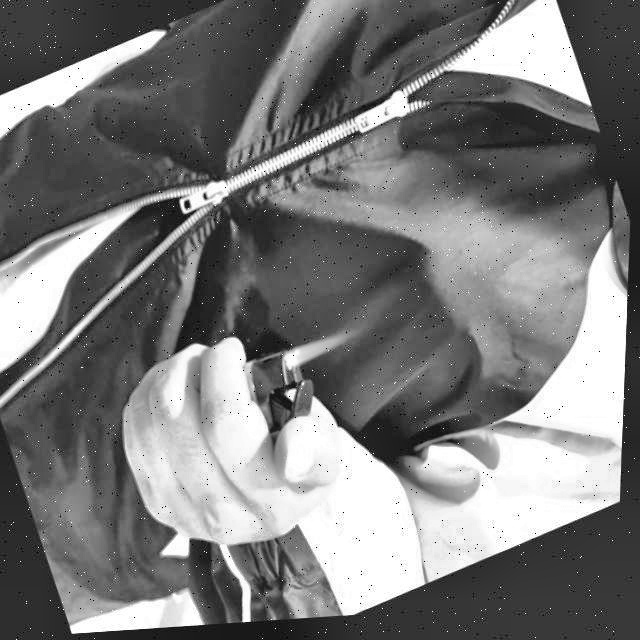Fire: (289, 331, 357, 373)
